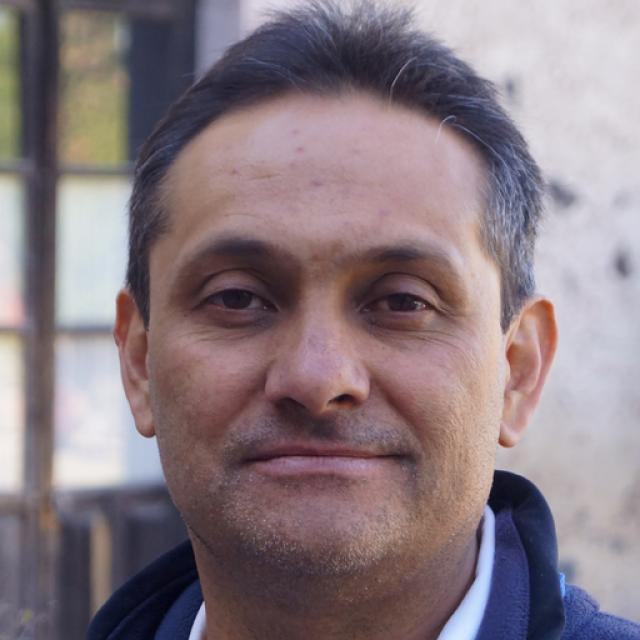content: (150, 107, 504, 578)
